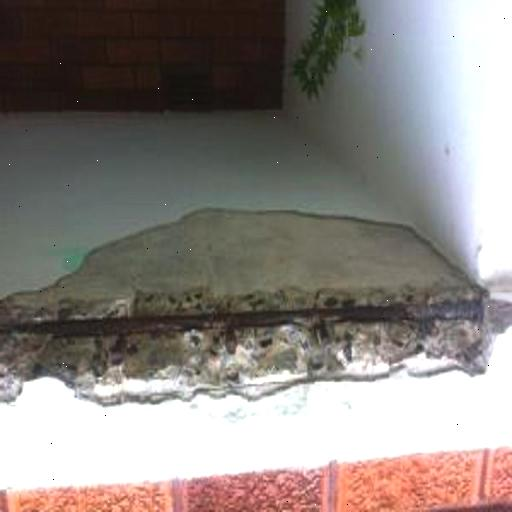spalling: (3, 210, 507, 403)
